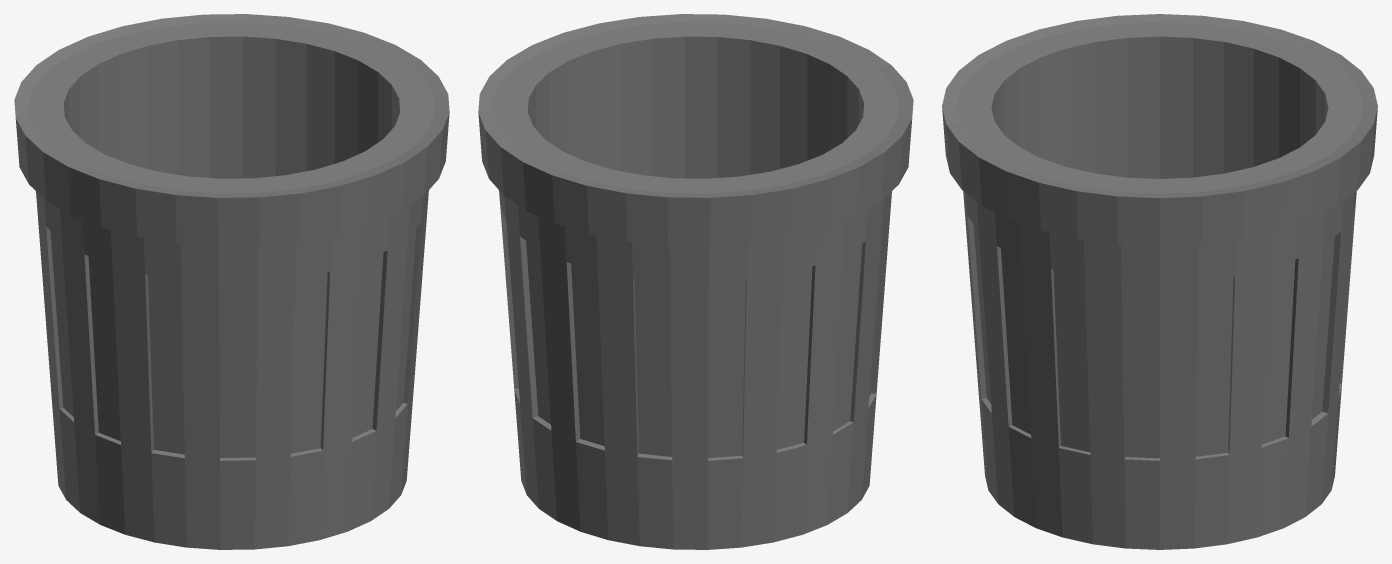
File: Trashcan.fbx
3 renders of one model, left to right at view 1: azimuth 30°, elevation 25°; view 2: azimuth 150°, elevation 25°; view 3: azimuth 270°, elevation 25°, orthographic.
Parts seen in each view (by area): view 1: Cylinder; view 2: Cylinder; view 3: Cylinder.
Part boxes in pixels (x1,y1,x2,y2): Cylinder: (14, 14, 449, 549); Cylinder: (478, 14, 913, 549); Cylinder: (942, 14, 1377, 549).
Bounding box in the file's own units: 215 × 201 × 215.
Materials: 1 (1 with a texture image).
